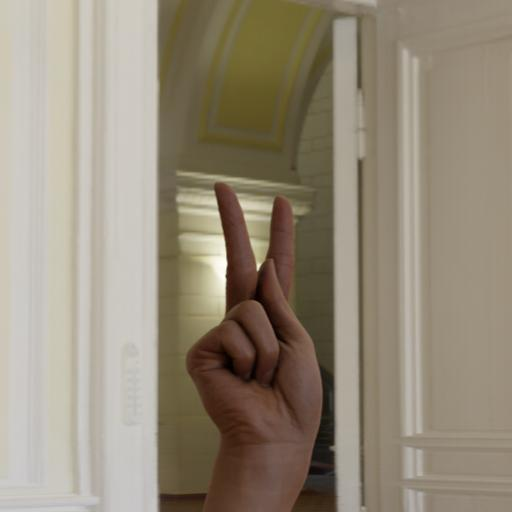K: (166, 168, 336, 505)
